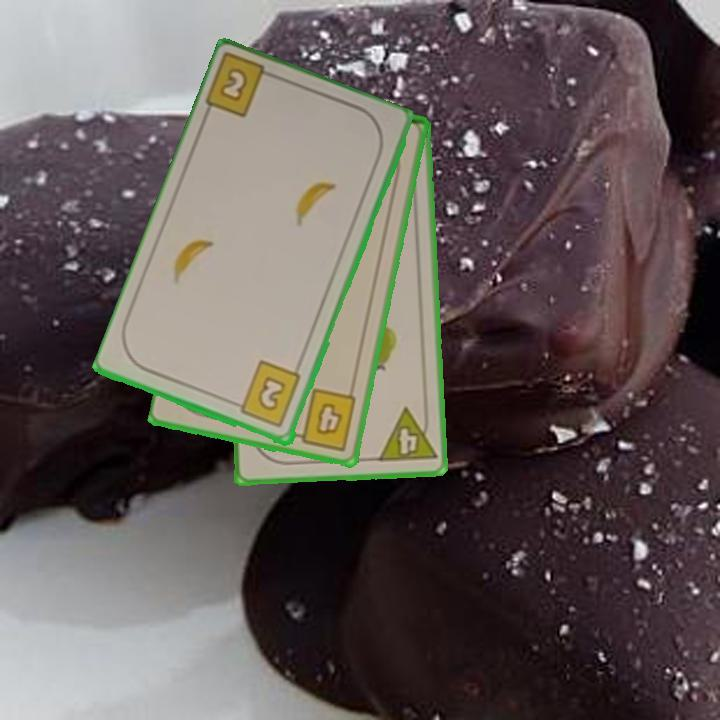2b: (229, 358, 304, 431), (203, 53, 283, 121)
4b: (288, 385, 360, 454)
4p: (374, 404, 439, 466)
